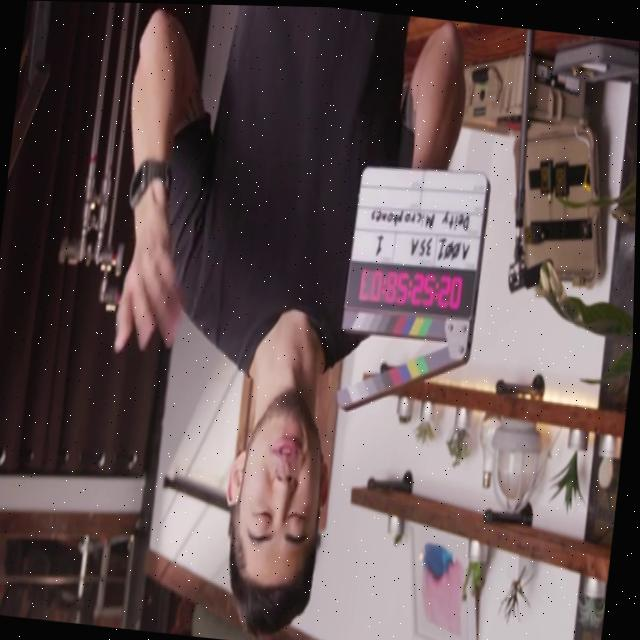Clapperboard: (329, 158, 492, 427)
